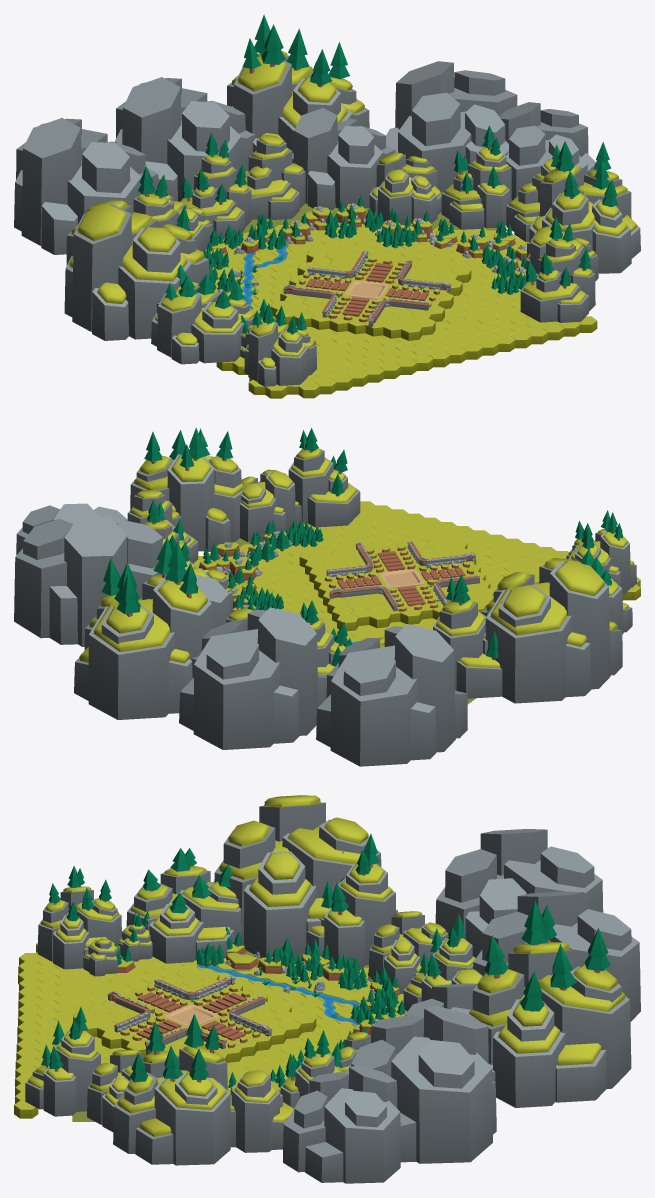
Rendered from main_scene.fbx.
The picture shows the model from 3 angles, top to bottom: view 1: azimuth 30°, elevation 25°; view 2: azimuth 150°, elevation 25°; view 3: azimuth 270°, elevation 25°; orthographic projection. The views are drawn at different scales.
Visible parts, largest first — view 1: mountain_C_grass__2_, mountain_C__2_, mountain_C__4_, mountain_C, mountain_C_grass_trees, mountain_C_grass_trees__1_, mountain_C__1_, mountain_C_grass_trees__3_, mountain_B_grass_trees__3_, mountain_C__3_, mountain_B_grass_trees__1_, mountain_C_grass_trees__2_ (+18 smaller); view 2: mountain_C__2_, mountain_C_grass_trees, mountain_C, mountain_C_grass__2_, mountain_C__4_, mountain_C_grass_trees__1_, mountain_B_grass_trees__2_, mountain_B_grass_trees__3_, mountain_C_grass__3_, mountain_C_grass_trees__2_, mountain_C__3_, mountain_B_grass_trees (+11 smaller); view 3: mountain_C_grass_trees, mountain_C__4_, mountain_C_grass__2_, mountain_C_grass_trees__1_, mountain_C__3_, mountain_C__2_, mountain_C_grass_trees__3_, mountain_C, mountain_B_grass_trees__2_, mountain_C_grass_trees__2_, mountain_B_grass_trees__3_, mountain_B_grass__1_ (+13 smaller).
Part boxes in pixels (x1,y1,x2,y2): mountain_C_grass__2_: (64, 200, 209, 340); mountain_C__2_: (14, 118, 158, 254); mountain_C__4_: (386, 61, 517, 192); mountain_C: (114, 77, 255, 201); mountain_C_grass_trees: (227, 14, 369, 152); mountain_C_grass_trees__1_: (529, 141, 640, 273); mountain_C__1_: (292, 108, 395, 209); mountain_C_grass_trees__3_: (151, 264, 255, 364); mountain_B_grass_trees__3_: (520, 216, 595, 322); mountain_C__3_: (499, 102, 596, 200); mountain_B_grass_trees__1_: (441, 125, 511, 229); mountain_C_grass_trees__2_: (244, 298, 316, 386); mountain_C__2_: (316, 624, 467, 766); mountain_C_grass_trees: (74, 537, 212, 719); mountain_C: (179, 607, 326, 749); mountain_C_grass__2_: (482, 558, 622, 703); mountain_C__4_: (14, 516, 162, 646); mountain_C_grass_trees__1_: (130, 427, 244, 551); mountain_B_grass_trees__2_: (433, 574, 502, 698); mountain_B_grass_trees__3_: (288, 428, 360, 527); mountain_C_grass__3_: (240, 469, 301, 542); mountain_C_grass_trees__2_: (566, 510, 636, 594); mountain_C__3_: (16, 503, 127, 554); mountain_B_grass_trees: (300, 600, 347, 675); mountain_C_grass_trees: (469, 900, 631, 1107); mountain_C__4_: (345, 1006, 496, 1163); mountain_C_grass__2_: (214, 795, 381, 959); mountain_C_grass_trees__1_: (113, 1014, 230, 1165); mountain_C__3_: (283, 1065, 401, 1183); mountain_C__2_: (435, 829, 603, 957); mountain_C_grass_trees__3_: (126, 848, 241, 963); mountain_C: (473, 891, 640, 1021); mountain_B_grass_trees__2_: (306, 834, 397, 969); mountain_C_grass_trees__2_: (37, 865, 121, 969); mountain_B_grass_trees__3_: (25, 1006, 100, 1116); mountain_B_grass__1_: (230, 1069, 293, 1152).
Size of the model in its own units: 3223 by 895 by 2977.
34 materials, 33 textured.
